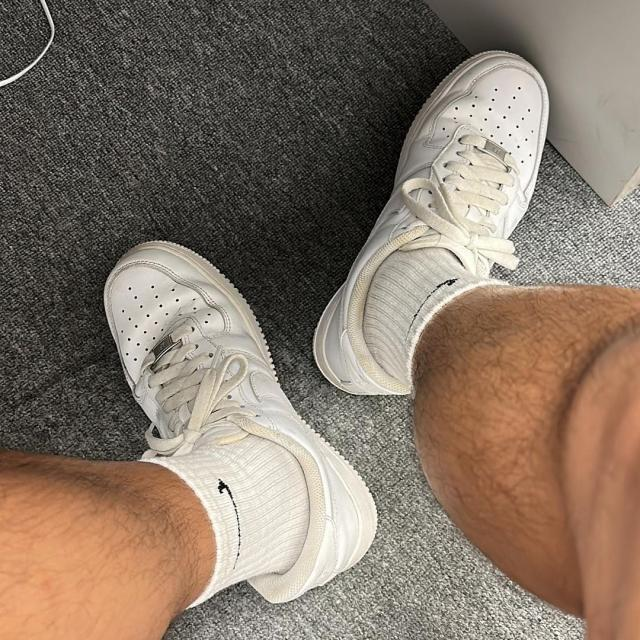nike original air force: (95, 240, 382, 622), (311, 50, 553, 401)
